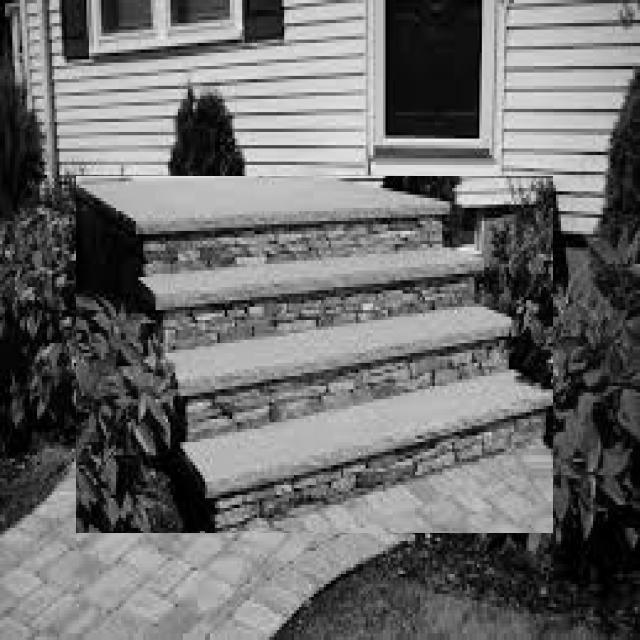stair: (77, 176, 553, 533)
